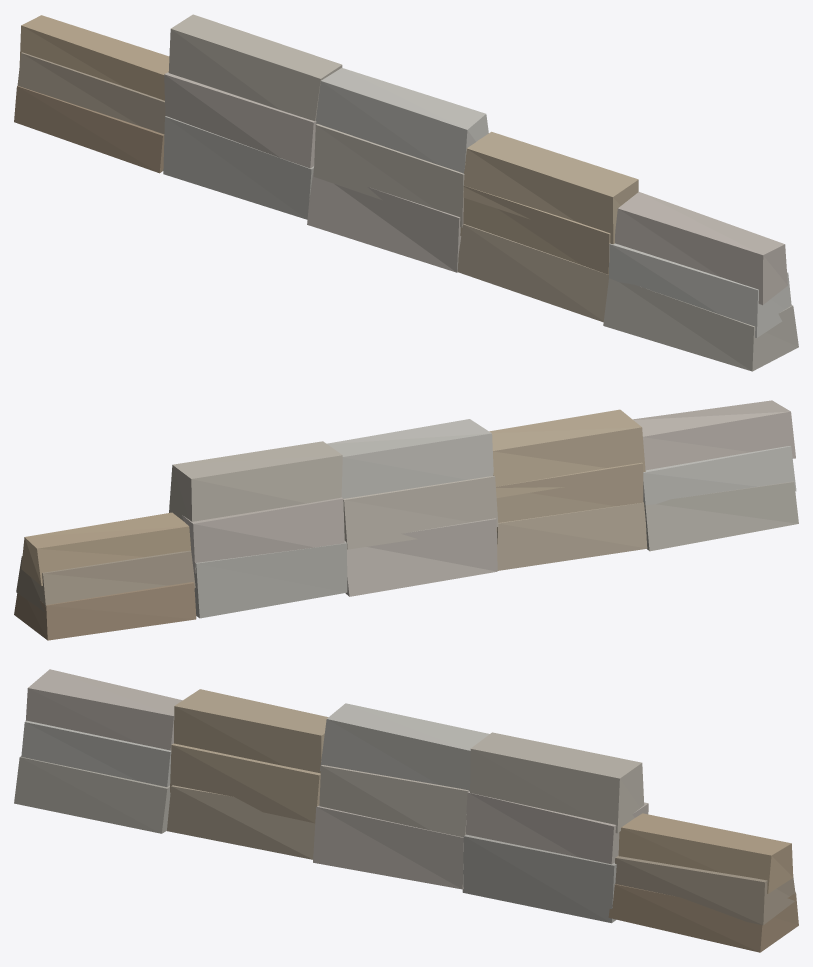
File: farm_-38_-32_mid.glb
3 renders of one model, top to bottom at view 1: azimuth 90°, elevation 25°; view 2: azimuth 150°, elevation 25°; view 3: azimuth 270°, elevation 25°, orthographic. The views are drawn at different scales.
Parts seen in each view (by area): view 1: geometry_0; view 2: geometry_0; view 3: geometry_0.
Part boxes in pixels (bbox=[...]): geometry_0: bbox=[14, 14, 798, 371]; geometry_0: bbox=[14, 400, 798, 640]; geometry_0: bbox=[14, 669, 798, 952].
Size of the model in its own units: 4.89 by 1.8 by 7.12.
